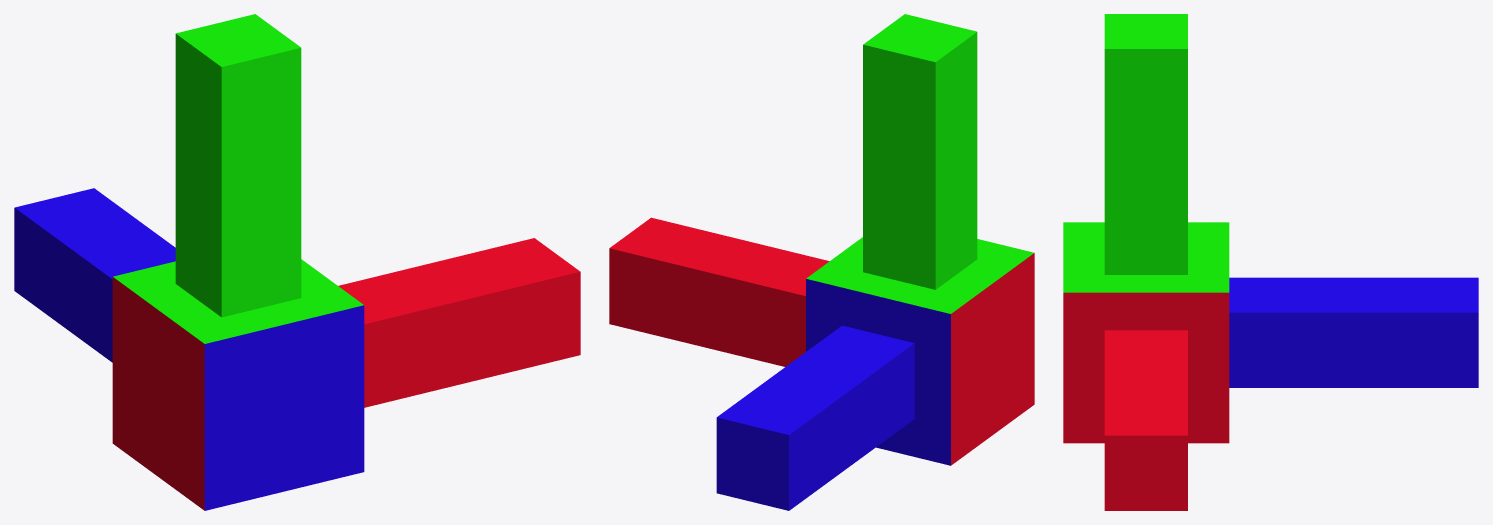
The model's file is Axis Object.glb.
The picture shows the model from 3 angles, left to right: view 1: azimuth 30°, elevation 25°; view 2: azimuth 150°, elevation 25°; view 3: azimuth 270°, elevation 25°; orthographic projection. The views are drawn at different scales.
Parts seen in each view (by area): view 1: Cube; view 2: Cube; view 3: Cube.
Part boxes in pixels (bbox=[...]): Cube: bbox=[14, 14, 580, 510]; Cube: bbox=[609, 14, 1034, 510]; Cube: bbox=[1063, 14, 1478, 510].
Size of the model in its own units: 5 by 5 by 5.
1 material, 1 textured.
